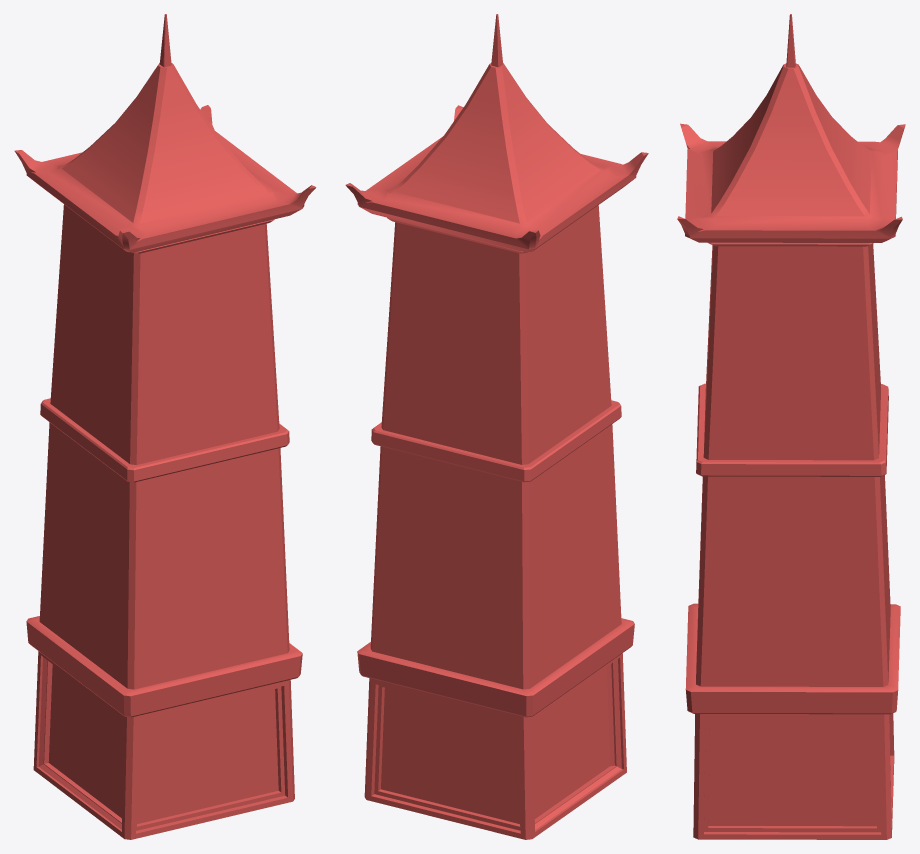
Rendered from SkyTower_B.fbx.
The picture shows the model from 3 angles, left to right: view 1: azimuth 30°, elevation 25°; view 2: azimuth 150°, elevation 25°; view 3: azimuth 270°, elevation 25°; orthographic projection.
Visible parts, largest first — view 1: Plane.003; view 2: Plane.003; view 3: Plane.003.
Boxes of the visible parts, box(x1,y1,x2,y2) form: Plane.003: box(14, 14, 316, 839); Plane.003: box(345, 14, 648, 839); Plane.003: box(677, 14, 905, 839).
Size of the model in its own units: 568 by 2147 by 568.
